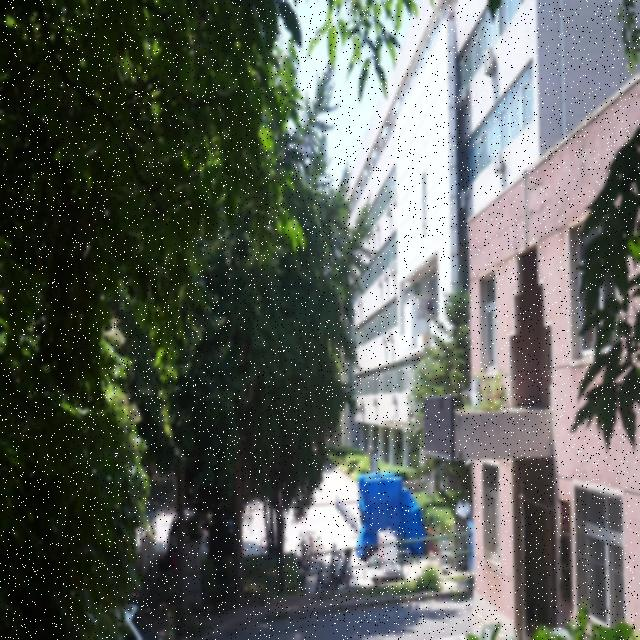UAV: (441, 9, 458, 21)
